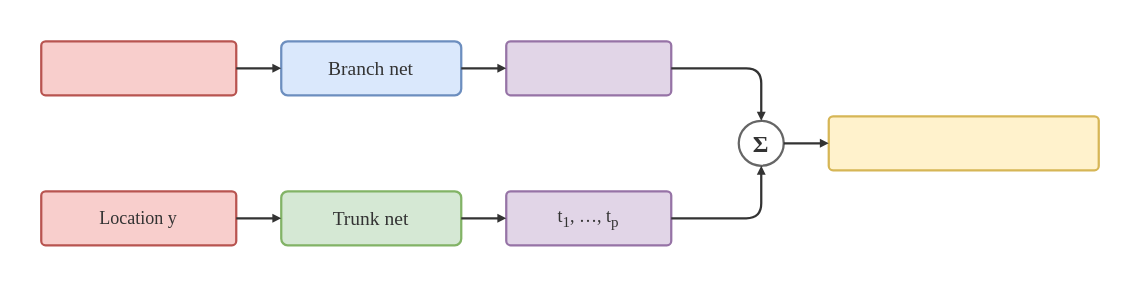
The diagram is 1139 pixels wide and 285 high, and some of its shapes have lost their labels. The centre of each missing label's shape, as x and y in pixels:
b 1 , …, b p: the point at 588,67
G(u)(y) = Σ k b k t k + b 0: the point at 963,142
u(x 1 ), …, u(x m ): the point at 138,67
